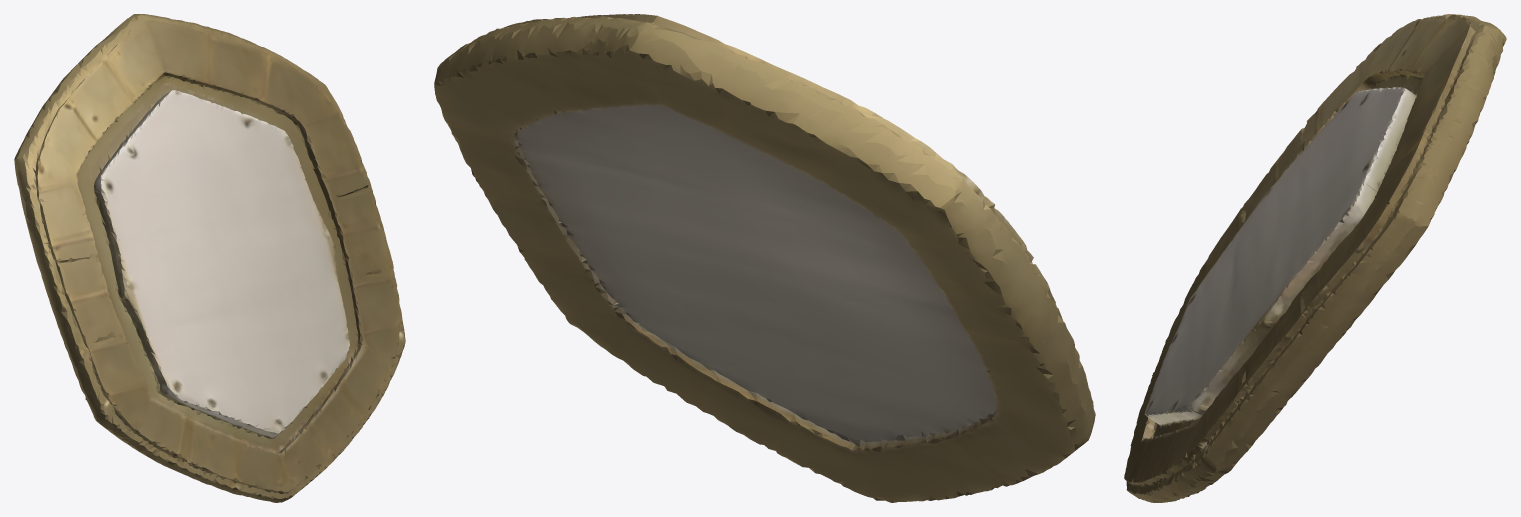
Rendered from centurion_shield.glb.
3 renders of one model, left to right at view 1: azimuth 30°, elevation 25°; view 2: azimuth 150°, elevation 25°; view 3: azimuth 270°, elevation 25°, orthographic. The views are drawn at different scales.
Parts seen in each view (by area): view 1: centurion_shield; view 2: centurion_shield; view 3: centurion_shield.
Part boxes in pixels (x1=…): centurion_shield: x1=14, y1=14, x2=405, y2=502; centurion_shield: x1=434, y1=14, x2=1095, y2=502; centurion_shield: x1=1124, y1=14, x2=1506, y2=502.
Size of the model in its own units: 1.68 by 1.9 by 1.4.
1 material, 1 textured.
